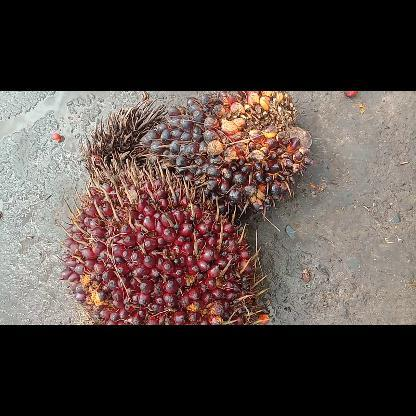Janjang kosong: (80, 99, 168, 175)
TBS masak: (58, 150, 268, 324)
TBS mentah: (142, 90, 312, 220)
